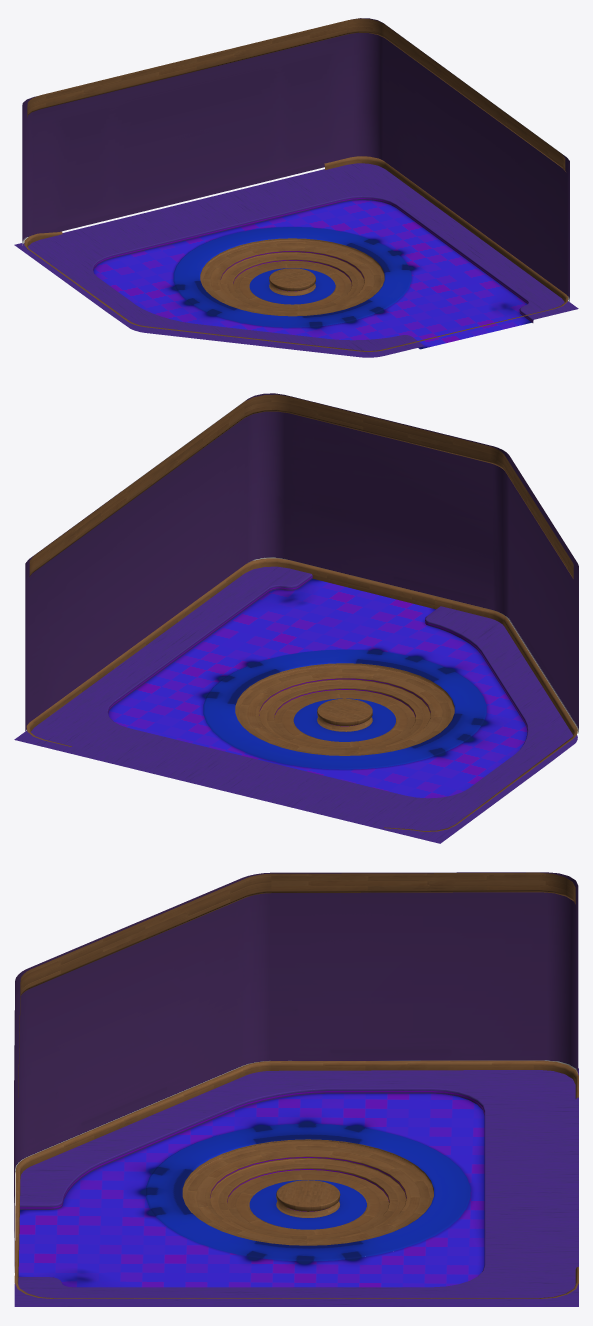
Rendered from Structure01.glb.
The picture shows the model from 3 angles, top to bottom: view 1: azimuth 30°, elevation 25°; view 2: azimuth 150°, elevation 25°; view 3: azimuth 270°, elevation 25°; orthographic projection. The views are drawn at different scales.
Parts seen in each view (by area): view 1: DecentralandNews_InteriorBase.001, Walls01; view 2: DecentralandNews_InteriorBase.001, Walls01; view 3: DecentralandNews_InteriorBase.001, Walls01.
Part boxes in pixels (x1,y1,x2,y2): DecentralandNews_InteriorBase.001: (14,18,578,357); Walls01: (22,18,569,351); DecentralandNews_InteriorBase.001: (14,394,577,843); Walls01: (25,393,578,831); DecentralandNews_InteriorBase.001: (14,872,578,1306); Walls01: (14,872,578,1298).
Size of what is drawn, in the model's own units: 26.23 by 11 by 26.21.
Materials: 4 (4 with a texture image).
